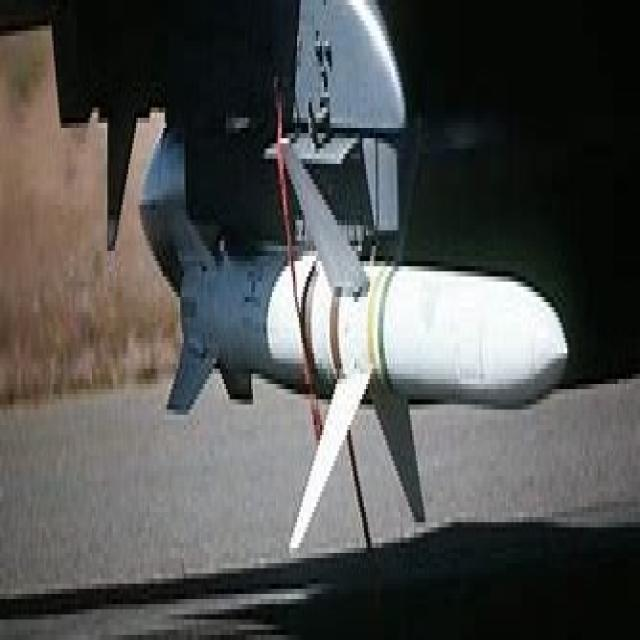missile: (165, 137, 565, 549)
